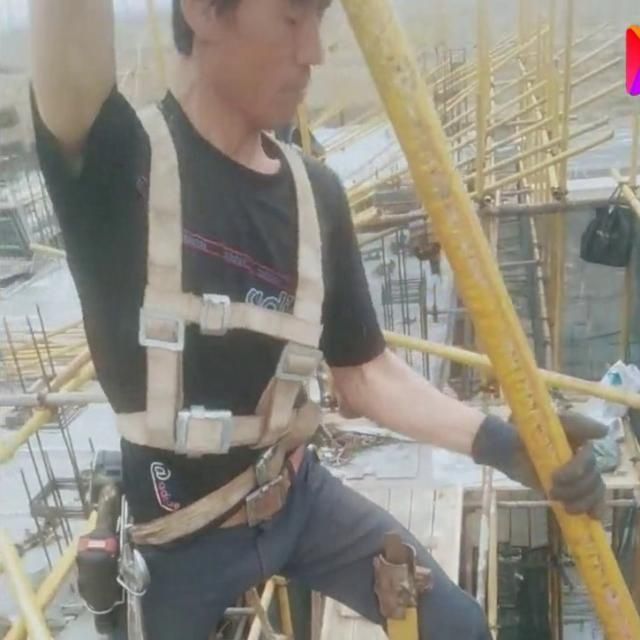Arnes_seguridad: (103, 86, 334, 459)
